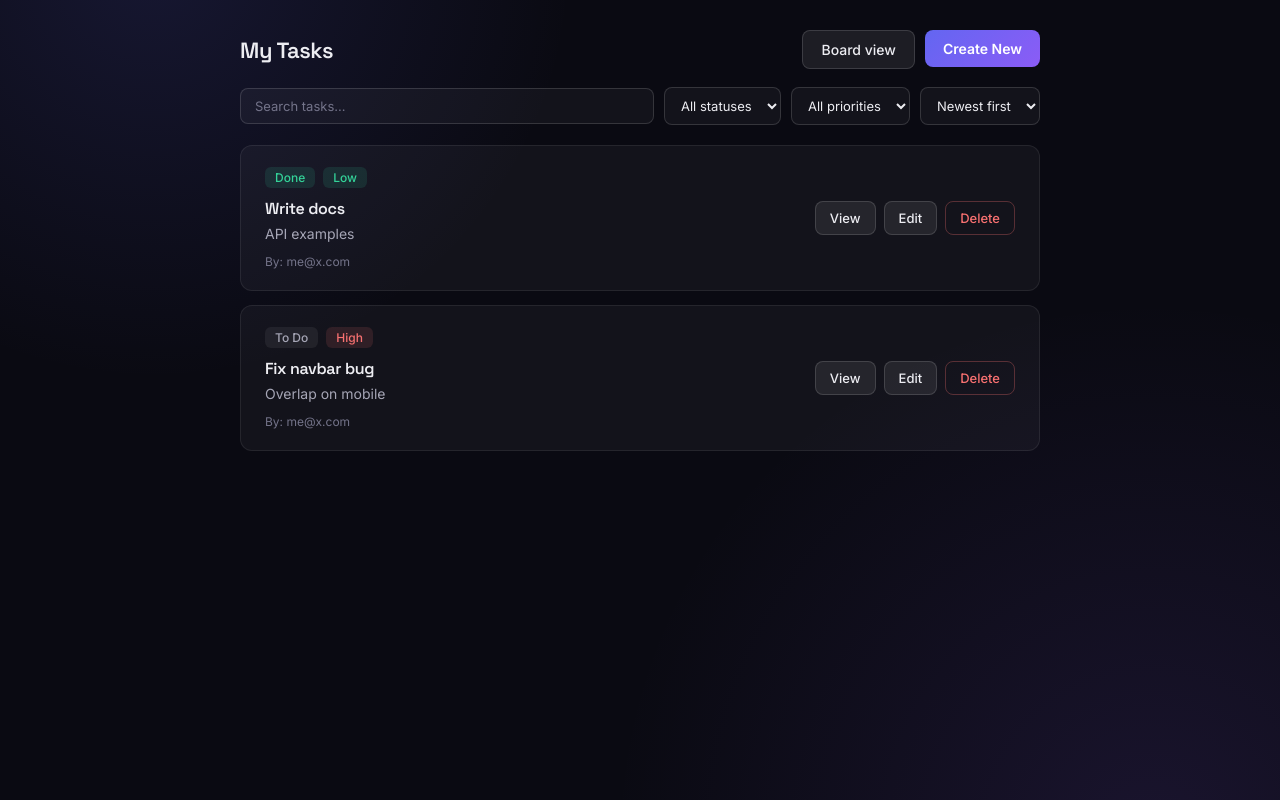
AllItems › filters tasks by search text
Check: the heading "Fix navbar bug" is shown, box [265,358,386,379]
Type "docs" into the field with placeholder "Search tasks..." at (447, 106), box [240,88,654,124]
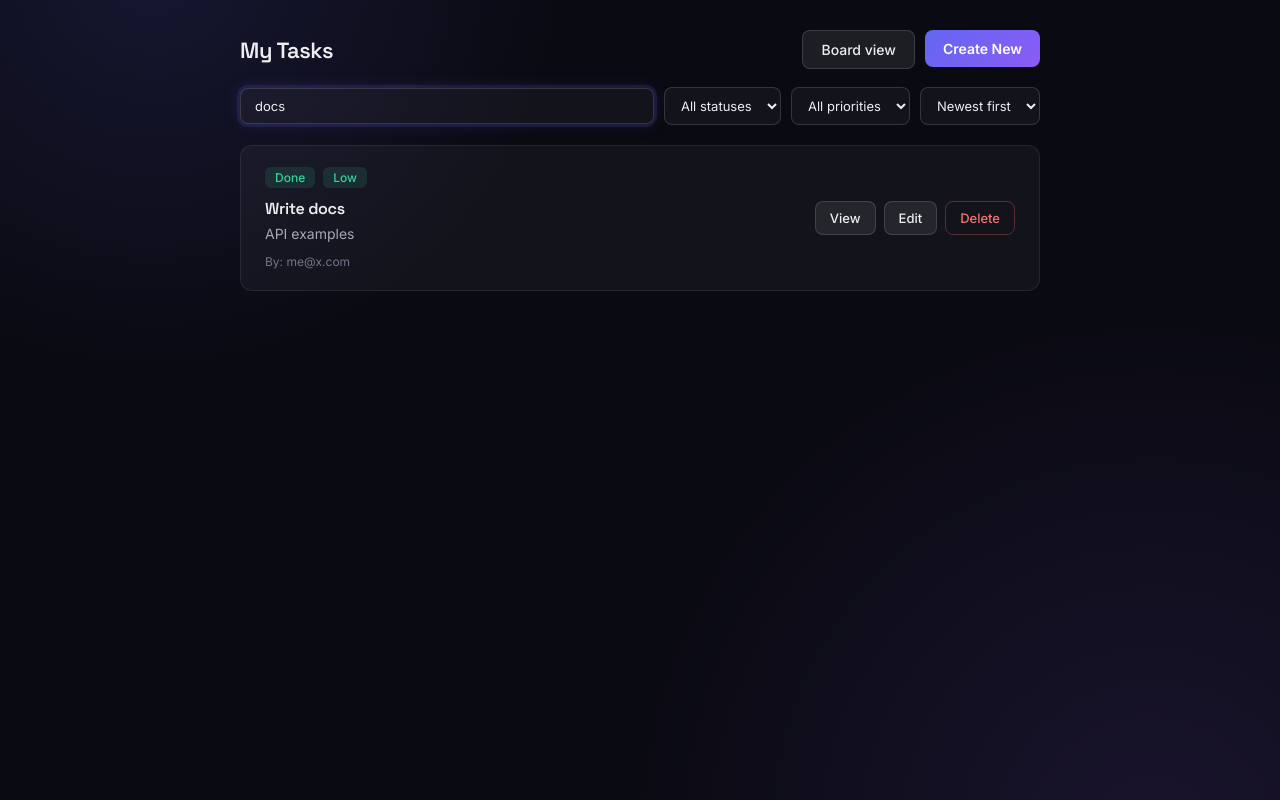
Check: the heading "Write docs" is shown, box [265,198,345,219]
Check: the heading "Fix navbar bug" is gone
